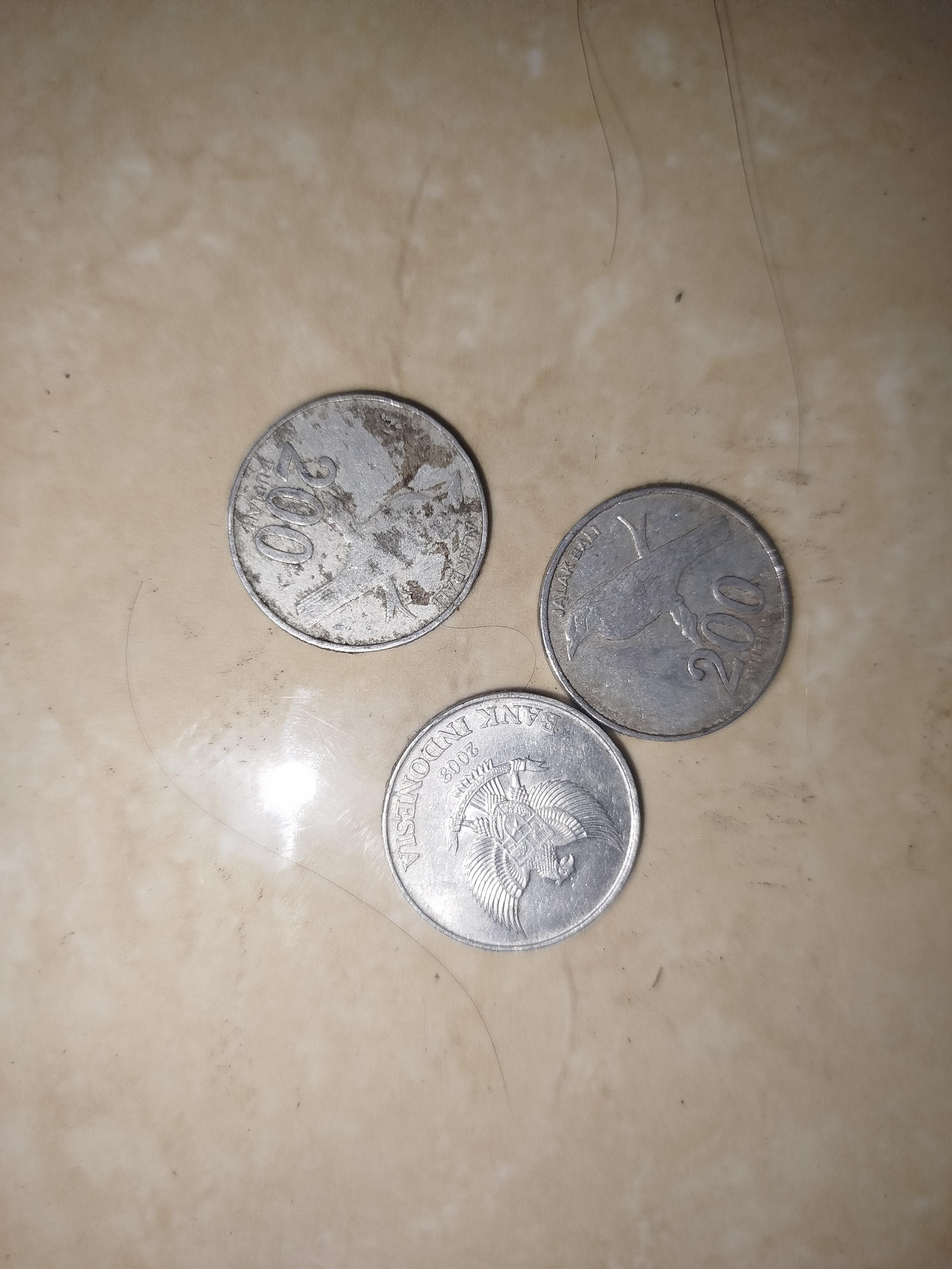coin_200_e2003: (225, 395, 497, 663), (386, 685, 648, 962), (538, 481, 799, 746)
